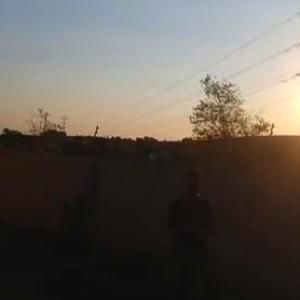follow: (158, 163, 218, 299)
